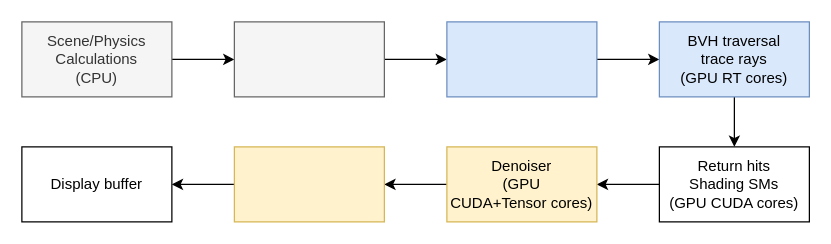
This 831x244 diagram has some shape labels left out. The shapes that lost their labels are listed below. From the top down, each one's centre as x and y in pixels, then its label:
At point 308,59: "BVH generation (CPU)".
At point 521,59: "Acceleration Structure Generation (GPU)".
At point 308,184: "Upscaling (GPU Tensor cores)".
